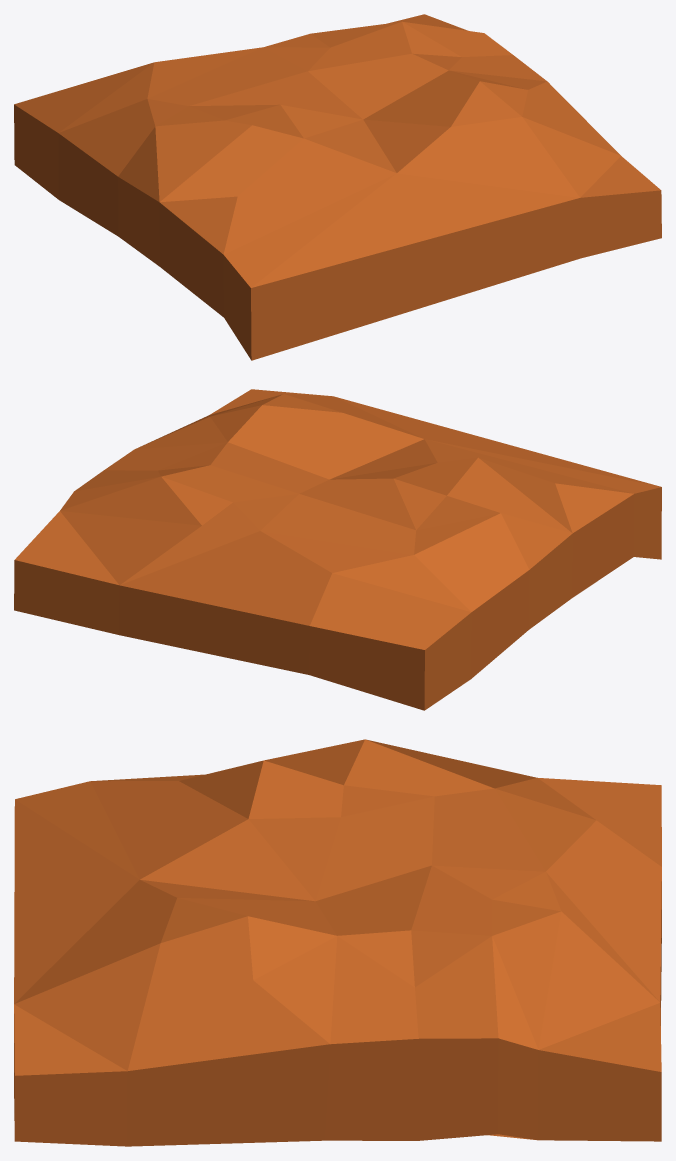
Rendered from NewPath2.fbx.
The picture shows the model from 3 angles, top to bottom: view 1: azimuth 30°, elevation 25°; view 2: azimuth 150°, elevation 25°; view 3: azimuth 270°, elevation 25°; orthographic projection. The views are drawn at different scales.
Parts seen in each view (by area): view 1: Path 2; view 2: Path 2; view 3: Path 2.
Boxes of the visible parts, x1=… form: Path 2: x1=14, y1=14, x2=661, y2=360; Path 2: x1=14, y1=389, x2=661, y2=710; Path 2: x1=14, y1=739, x2=661, y2=1146.
Bounding box in the file's own units: 5.59 × 1.89 × 5.56.
